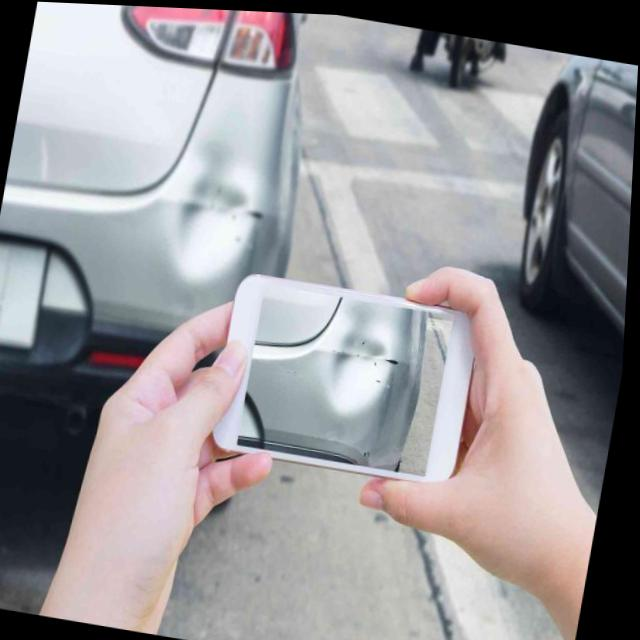Dent: (147, 129, 291, 289)
